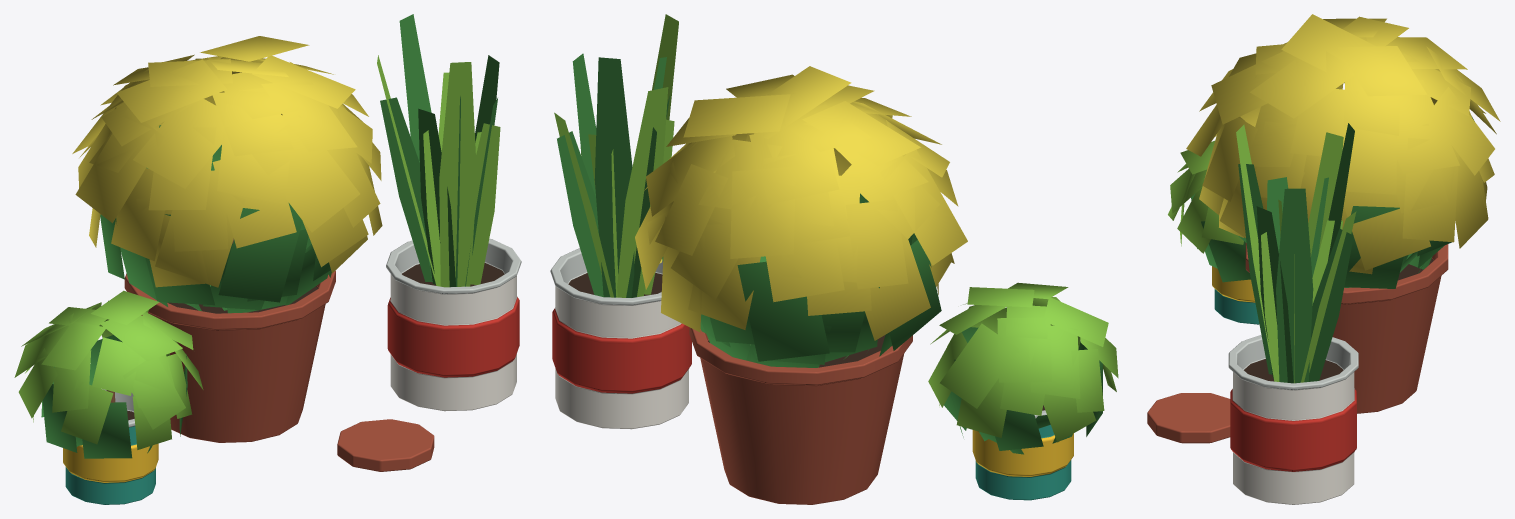
The model's file is prop_plant_pots_a.glb.
3 renders of one model, left to right at view 1: azimuth 30°, elevation 25°; view 2: azimuth 150°, elevation 25°; view 3: azimuth 270°, elevation 25°, orthographic. The views are drawn at different scales.
Visible parts, largest first — view 1: prop_plant_pots_a; view 2: prop_plant_pots_a; view 3: prop_plant_pots_a.
Part boxes in pixels (left/top/right/bottom): prop_plant_pots_a: left=14, top=14, right=521, bottom=504; prop_plant_pots_a: left=550, top=14, right=1118, bottom=504; prop_plant_pots_a: left=1147, top=14, right=1500, bottom=504.
Bounding box in the file's own units: 1.27 × 0.8885 × 0.7951.
